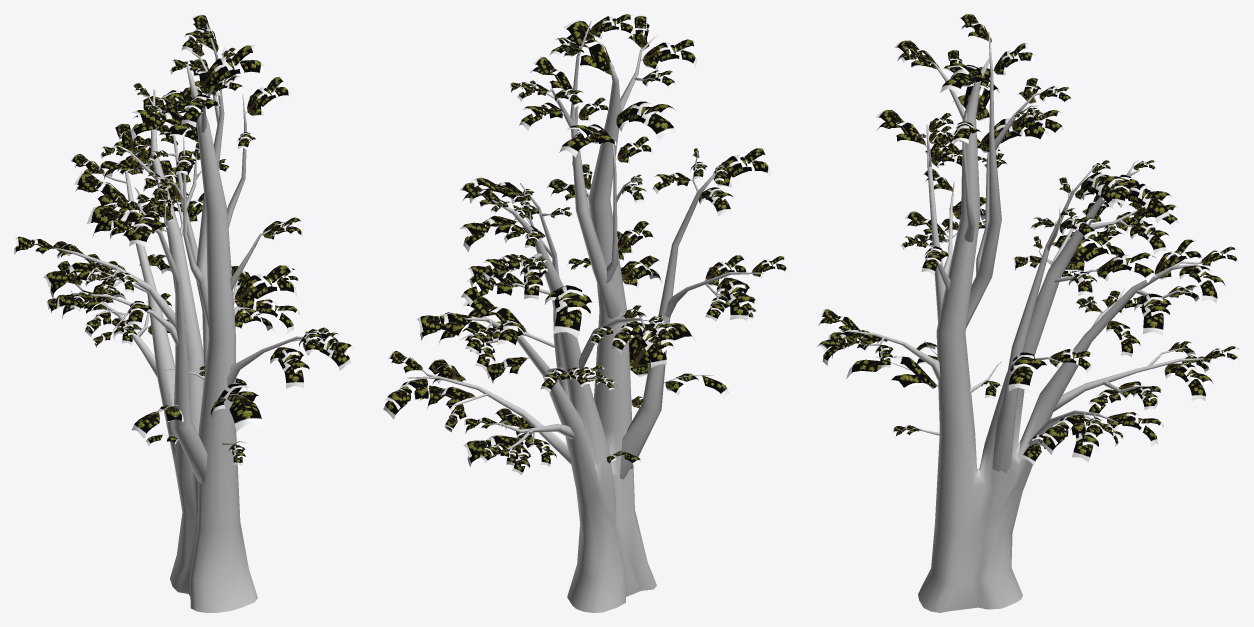
Rendered from Tree 3.FBX.
The picture shows the model from 3 angles, left to right: view 1: azimuth 30°, elevation 25°; view 2: azimuth 150°, elevation 25°; view 3: azimuth 270°, elevation 25°; orthographic projection. The views are drawn at different scales.
Visible parts, largest first — view 1: Tree 3; view 2: Tree 3; view 3: Tree 3.
Boxes of the visible parts, x1=… form: Tree 3: x1=14, y1=14, x2=354, y2=612; Tree 3: x1=383, y1=14, x2=787, y2=612; Tree 3: x1=816, y1=14, x2=1238, y2=612.
Bounding box in the file's own units: 114 × 134 × 201.
